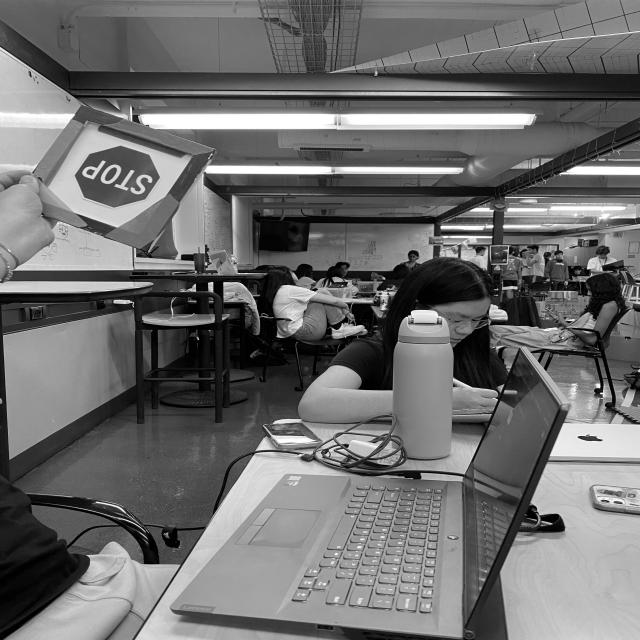stop: (70, 142, 160, 210)
